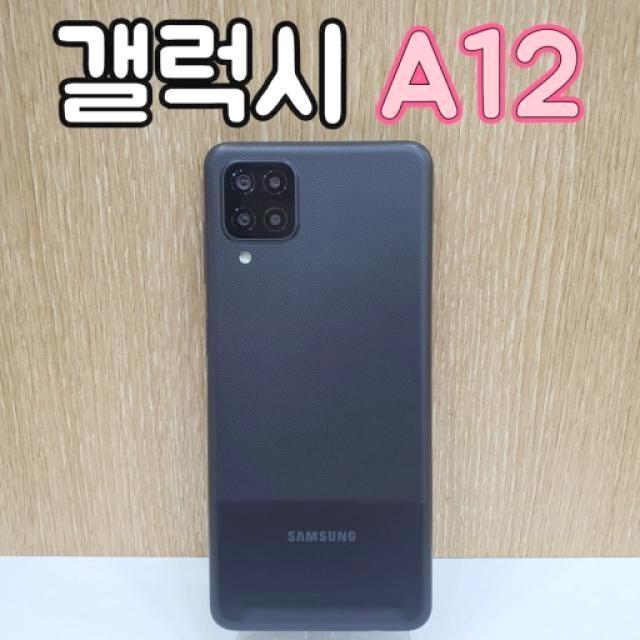lens: (227, 159, 296, 245)
phone: (197, 138, 439, 634)
